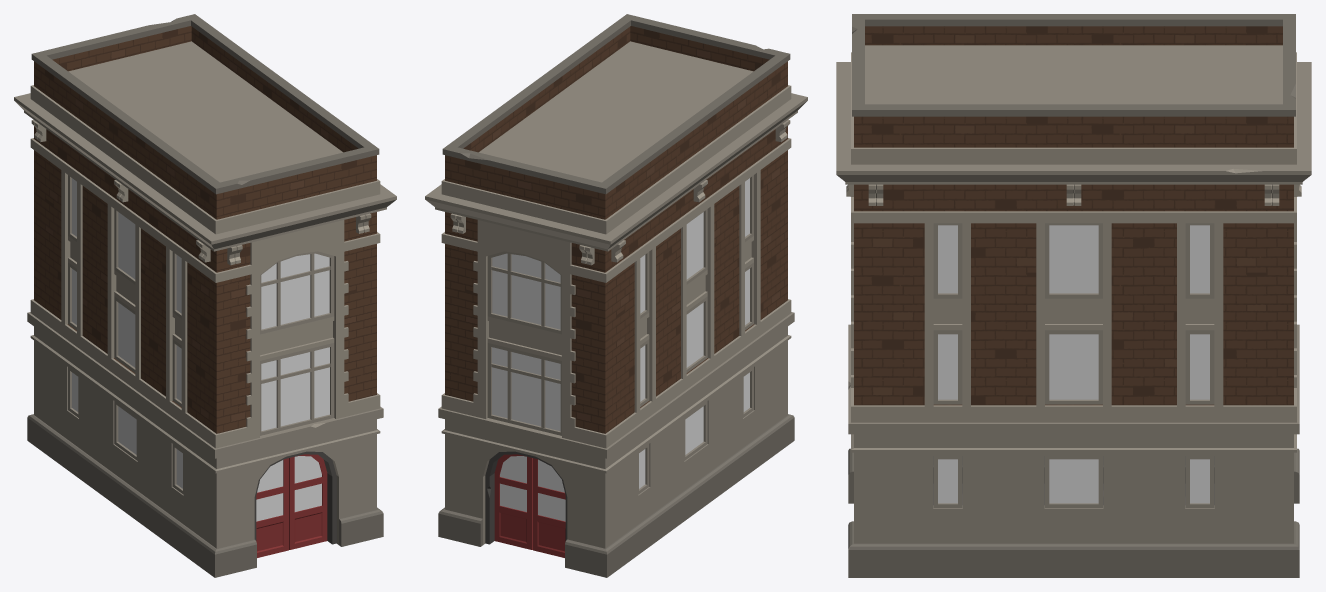
File: SM_Bldg_City_FireHouse.fbx
3 views of the same model, side by side, from view 1: azimuth 30°, elevation 25°; view 2: azimuth 150°, elevation 25°; view 3: azimuth 270°, elevation 25° (orthographic). The views are drawn at different scales.
Visible parts, largest first — view 1: SM_Bldg_City_FireHouse, SM_Bldg_City_FireHouse_Glass; view 2: SM_Bldg_City_FireHouse, SM_Bldg_City_FireHouse_Glass; view 3: SM_Bldg_City_FireHouse, SM_Bldg_City_FireHouse_Glass.
Boxes of the visible parts, <box> form: SM_Bldg_City_FireHouse: <box>14,14,396,577</box>; SM_Bldg_City_FireHouse_Glass: <box>72,178,329,488</box>; SM_Bldg_City_FireHouse: <box>425,14,807,577</box>; SM_Bldg_City_FireHouse_Glass: <box>492,178,749,488</box>; SM_Bldg_City_FireHouse: <box>836,14,1311,577</box>; SM_Bldg_City_FireHouse_Glass: <box>938,225,1209,503</box>.
Bounding box in the file's own units: 880 × 1755 × 1620.
